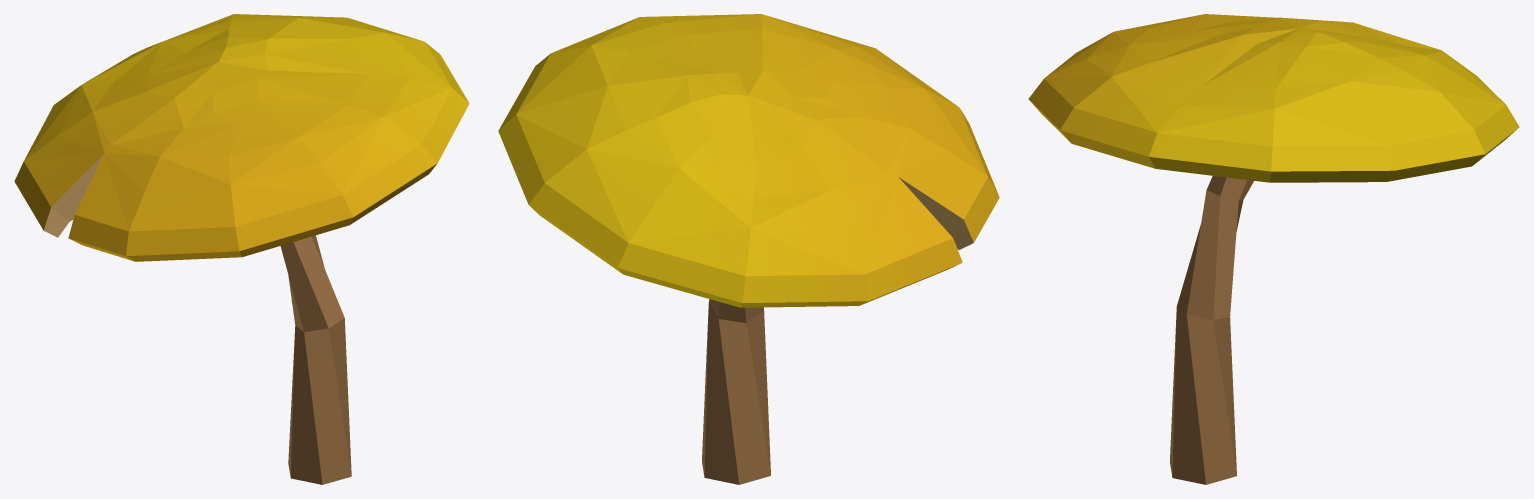
Rendered from Mushroom_3.fbx.
3 renders of one model, left to right at view 1: azimuth 30°, elevation 25°; view 2: azimuth 150°, elevation 25°; view 3: azimuth 270°, elevation 25°, orthographic. The views are drawn at different scales.
Visible parts, largest first — view 1: Mushroom_3; view 2: Mushroom_3; view 3: Mushroom_3.
Boxes of the visible parts, x1=… form: Mushroom_3: x1=14, y1=14, x2=469, y2=484; Mushroom_3: x1=498, y1=14, x2=999, y2=484; Mushroom_3: x1=1028, y1=14, x2=1519, y2=484.
Bounding box in the file's own units: 72.19 × 69.39 × 73.48.
